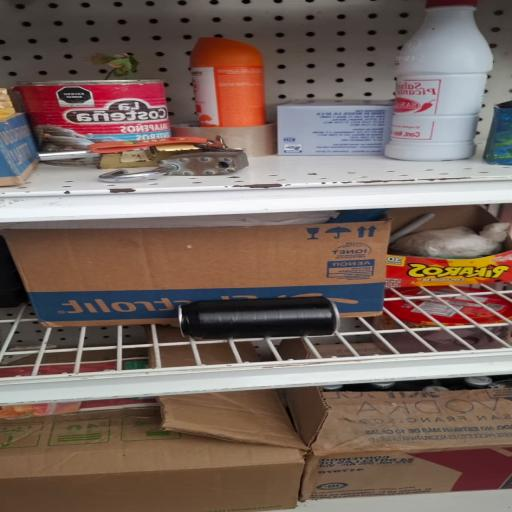LATA: (164, 292, 351, 342)
